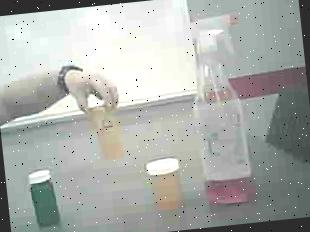Bottle A: (78, 92, 132, 173)
Bottle B: (144, 152, 190, 218)
Bottle C: (25, 162, 69, 231)
hazard: (180, 11, 269, 215)
